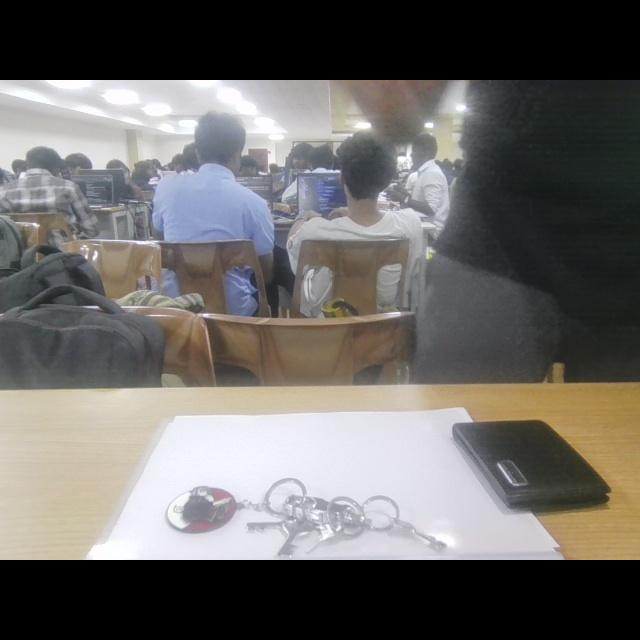keys: (162, 464, 450, 560)
wallet: (453, 392, 619, 520)
